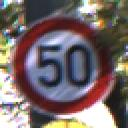speed_limit_50: (12, 18, 115, 117)
